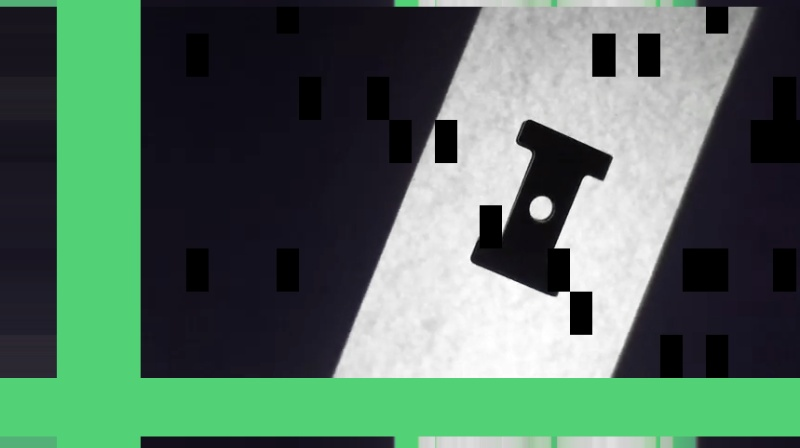O002: (468, 116, 616, 300)
